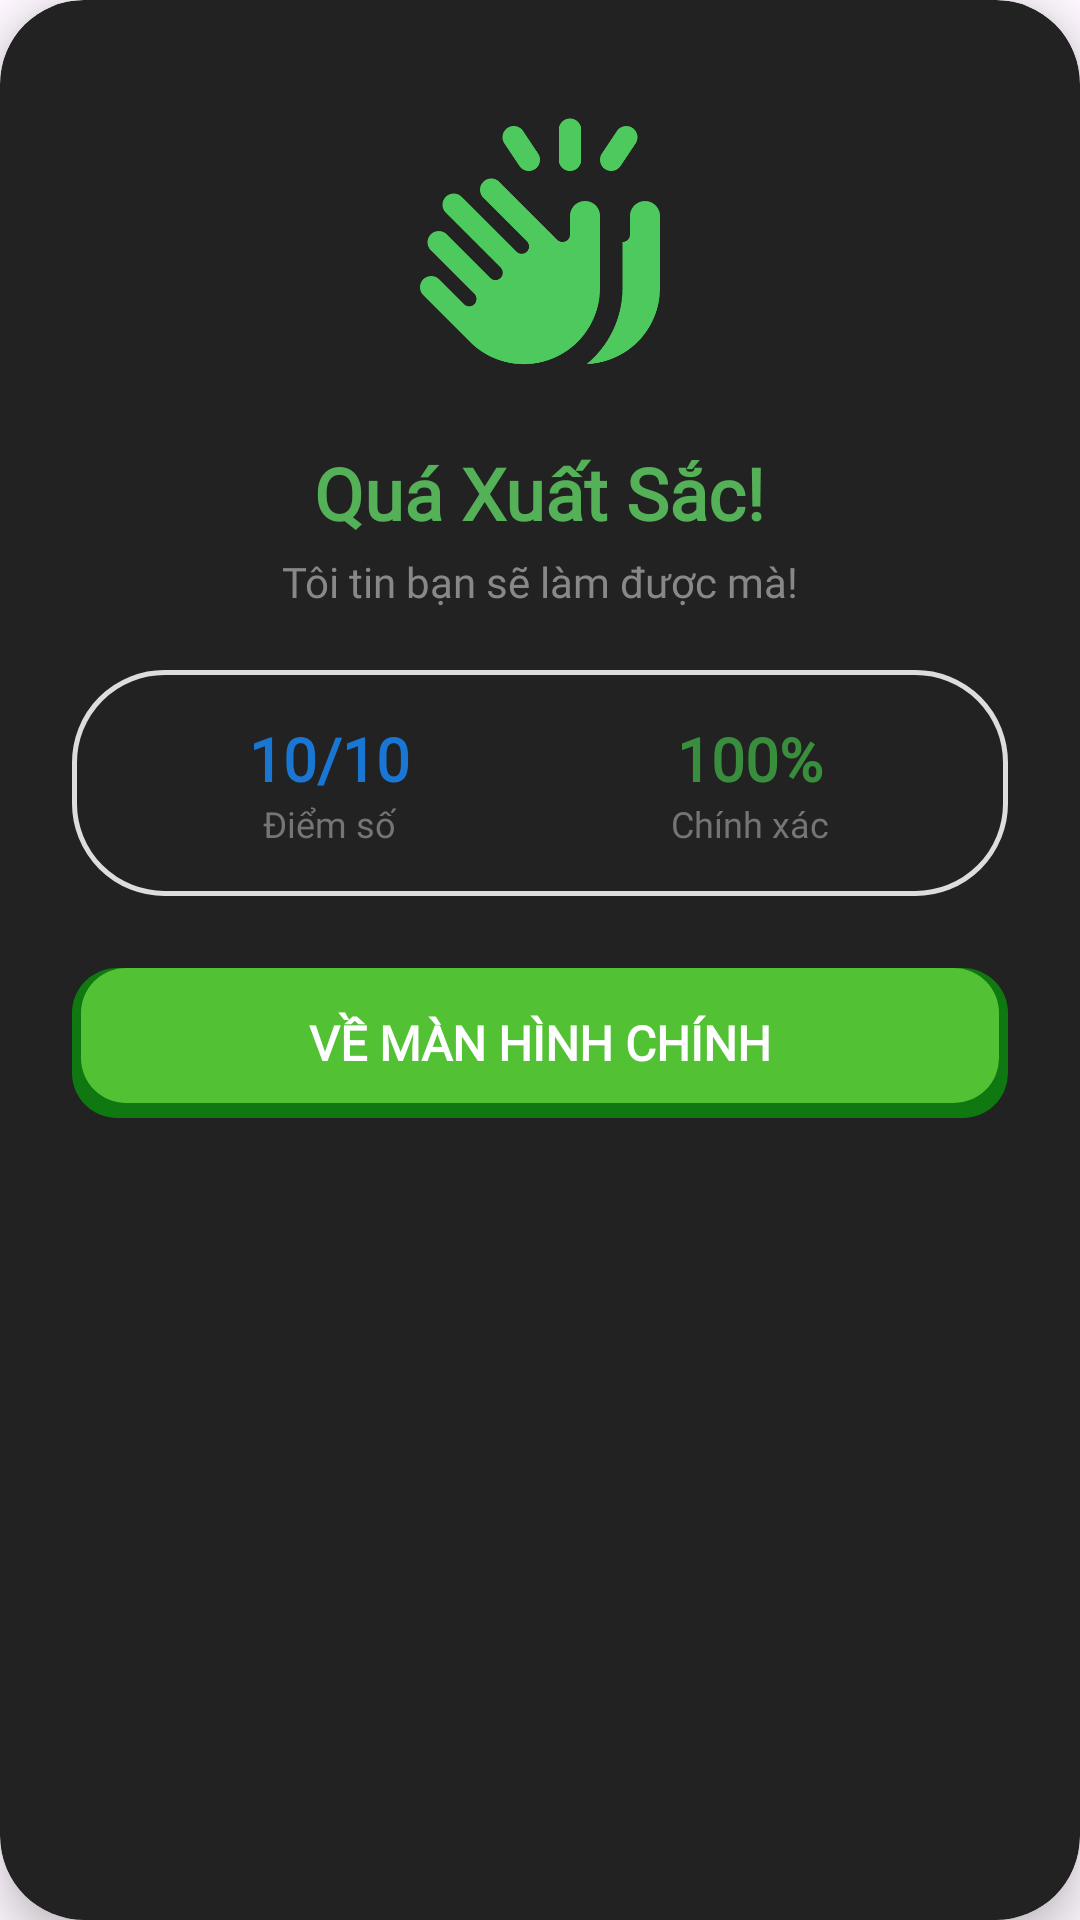

Icon bounding boxes for this 1080 x 1920 phone screenshot, format (x1, y1, x2, y2):
cheer: (420, 118, 660, 365)
